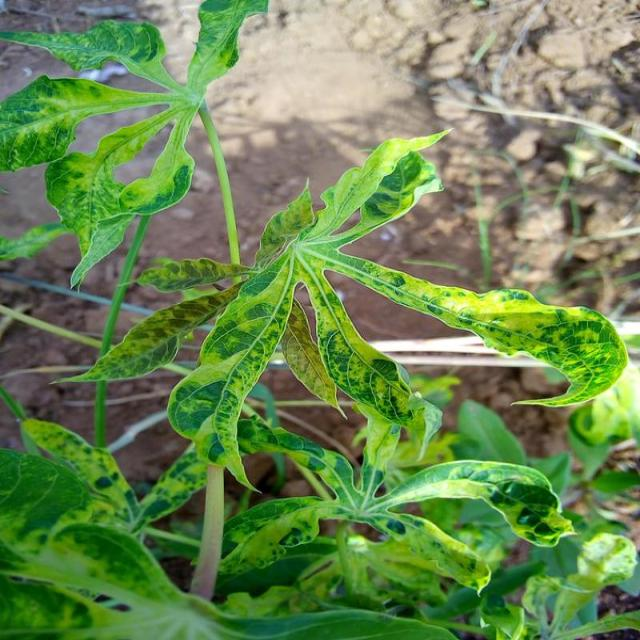cassava leaf: (1, 1, 631, 635), (165, 126, 627, 494)
